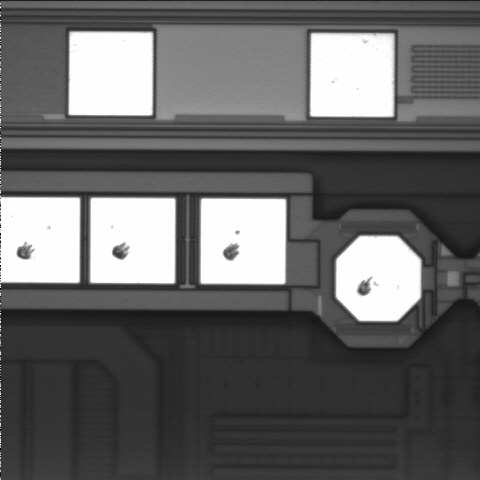pad: (90, 198, 175, 283), (201, 199, 286, 284), (336, 236, 421, 321), (310, 33, 394, 117), (69, 32, 153, 115)
